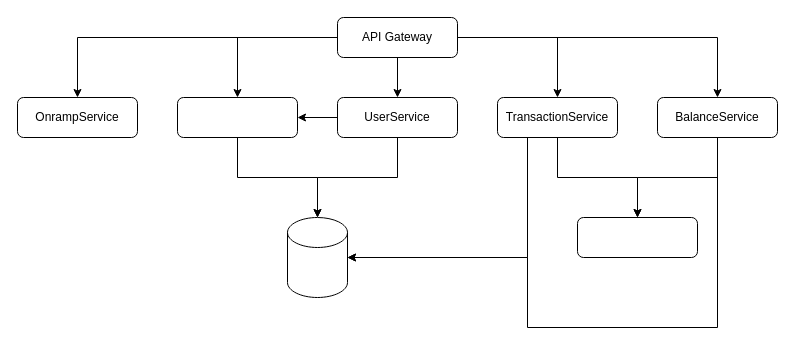
Image size: 795x353. Some labels were removed from this diagram. The centre of each missing label's shape, as x and y in pixels:
DB: pixel 317 257
RPC: pixel 637 237
WalletService: pixel 237 117
